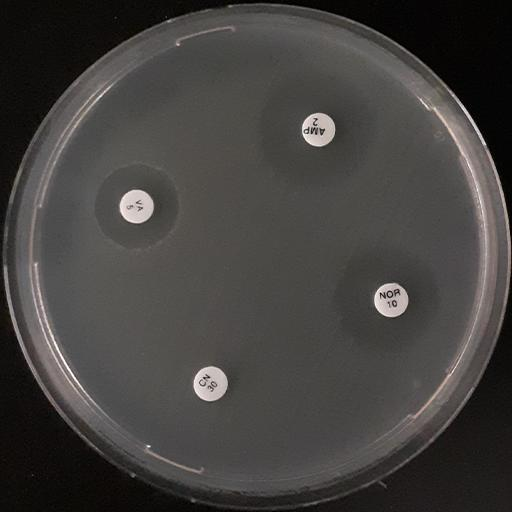disc: (119, 189, 154, 225), (373, 282, 409, 317), (301, 112, 336, 147), (193, 366, 228, 401)
